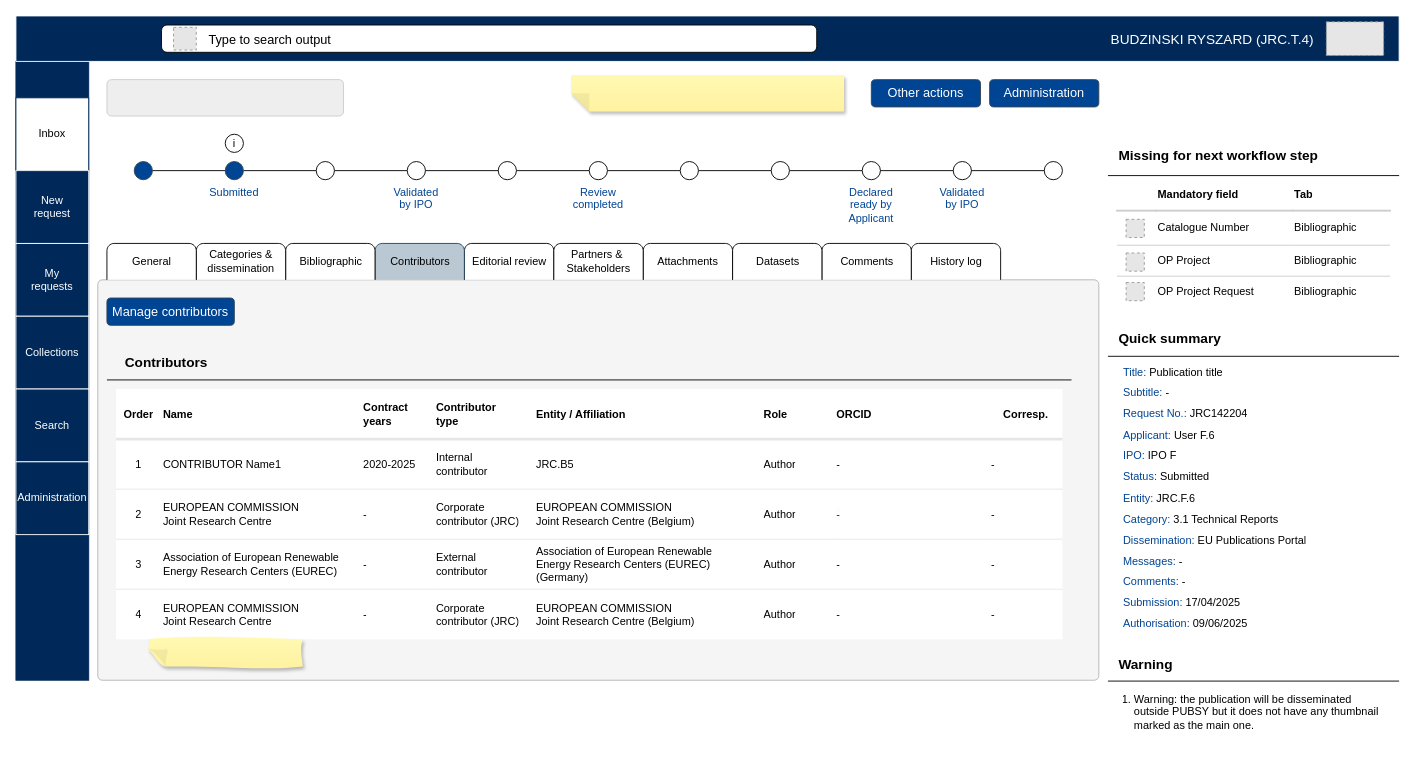
Some shapes in this 1415 by 760 pixel diagram are drawn without their labels. Grey dashed boxes stand in for pictures. The shapes that lost their labels are listed below. From the top down, each one's centre as x and y in pixels, then its label:
At point 225,97: "Back > Workflow request".
At point 708,94: "Contributor tab - end".
At point 142,170: "Created".
At point 324,170: "Approved by HoU".
At point 506,170: "Review initiated".
At point 688,170: "Authorised by Director".
At point 779,170: "Identifiers assigned".
At point 1052,170: "Registered by PUBSY team".
At point 226,653: "contributor added".
